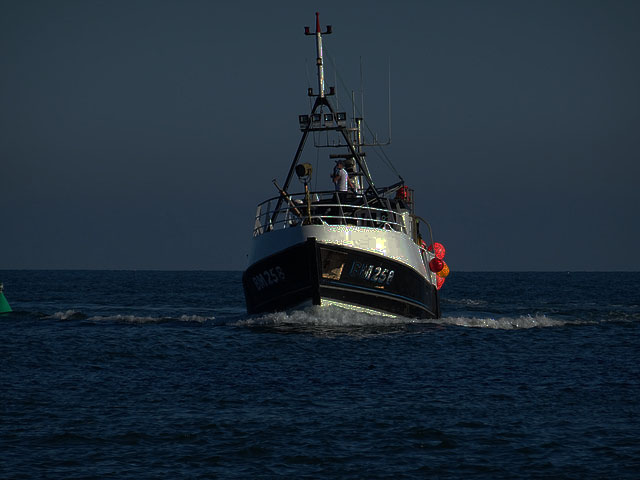fishing_boat: (238, 34, 449, 322)
